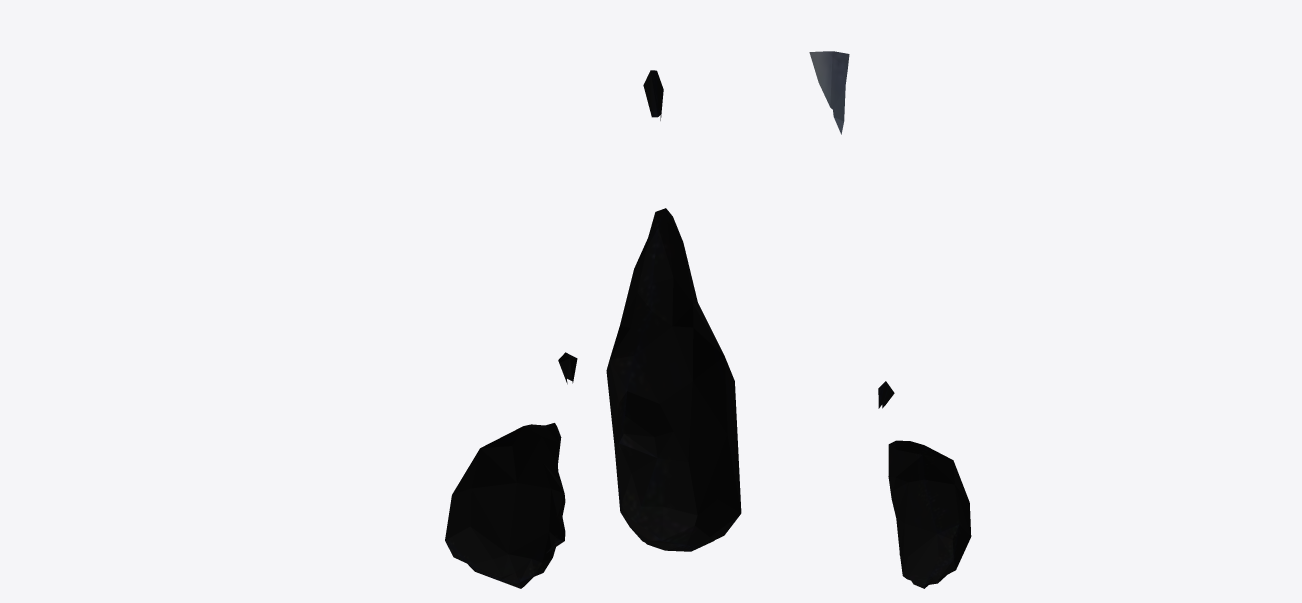
3 renders of one model, left to right at view 1: azimuth 30°, elevation 25°; view 2: azimuth 150°, elevation 25°; view 3: azimuth 270°, elevation 25°, orthographic. The views are drawn at different scales.
Bounding box in the file's own units: 0.5378 × 0.7411 × 0.6258.
Materials: 1 (1 with a texture image).
